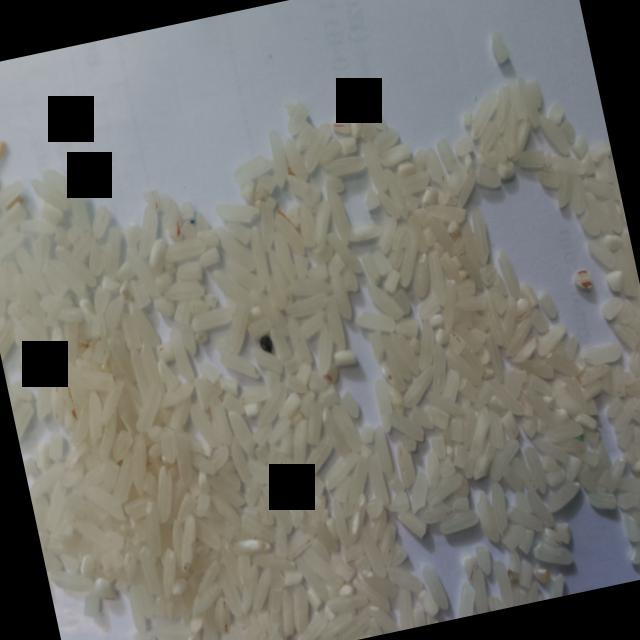Kerikil: (256, 332, 276, 358)
